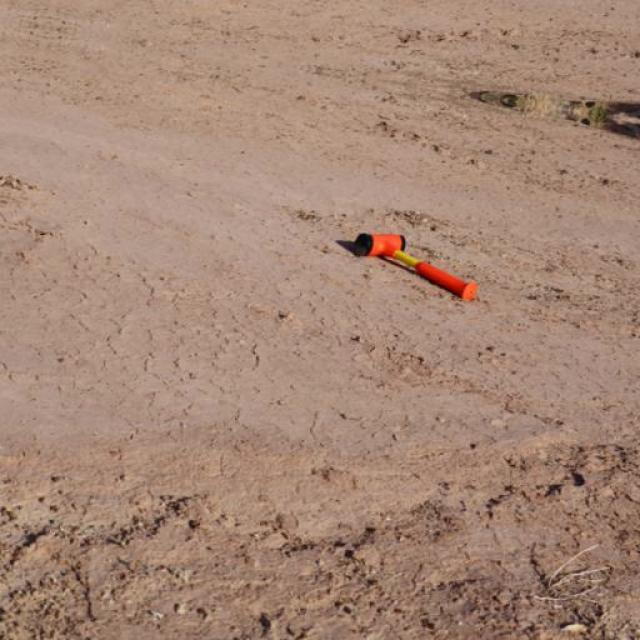mallet: (350, 230, 478, 301)
